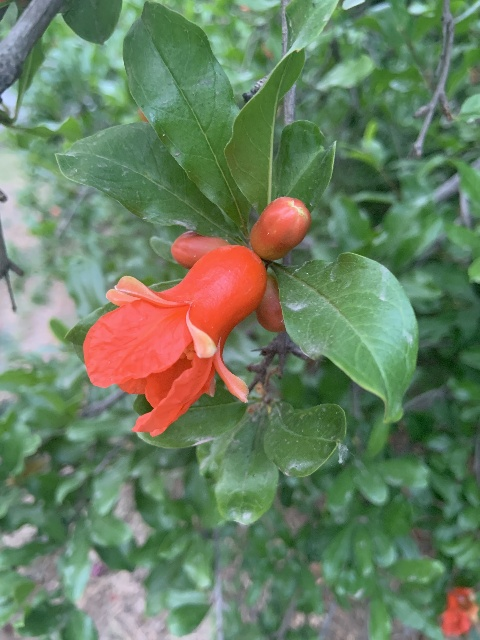bud: (251, 196, 311, 261), (171, 231, 231, 269), (256, 272, 284, 333)
flower: (83, 244, 266, 436)
